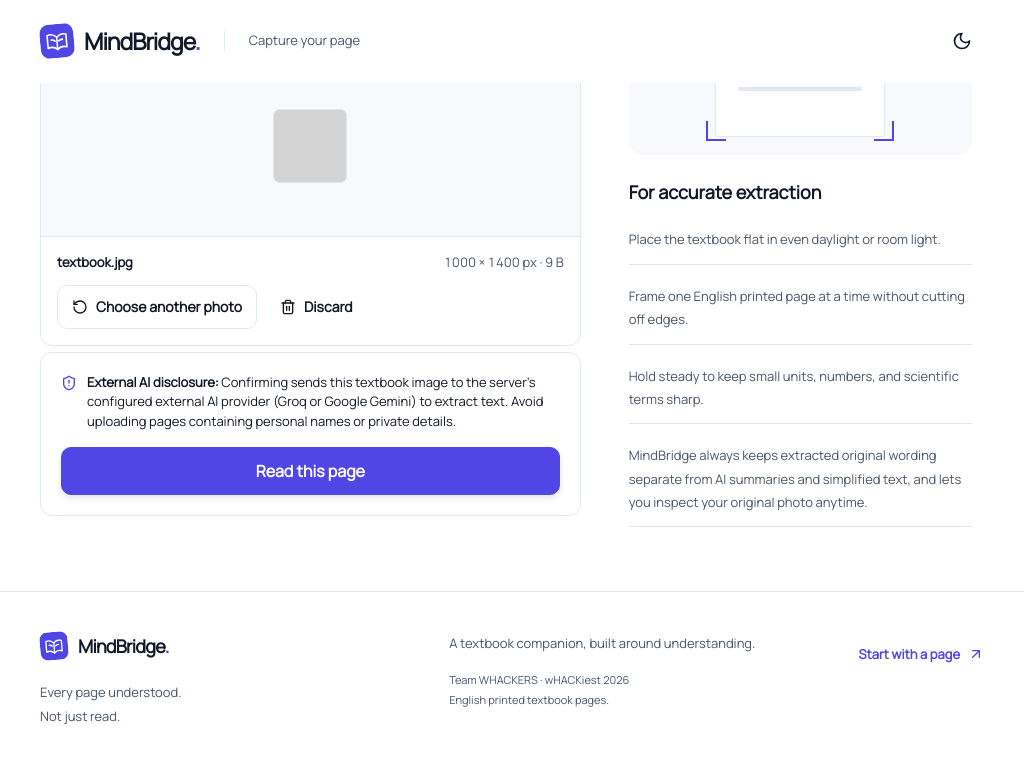
Test: Image validation & ScanPage flow › keeps user on ScanPage with retake guidance when OCR returns unreadable, and navigates on readable
Earlier steps of the test are not shown.
(page scrolled)
Expected: the text "Groq or Google Gemini" is shown, [87,373,543,430]
Click the button "Read this page": (310, 471) [61,447,560,495]
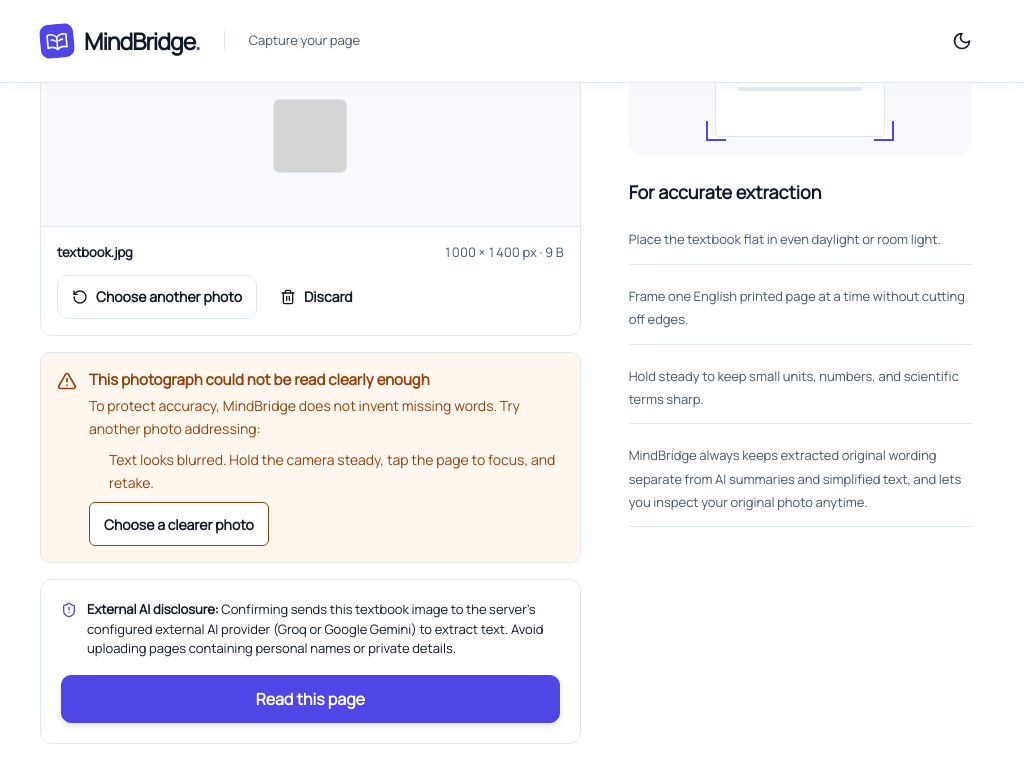
Expected: the text "This photograph could not be read clearly enough" is shown, [89,369,430,390]
Expected: the list item "Text looks blurred" is shown, [109,450,555,492]
Click the button "Read this page": (310, 699) [61,675,560,723]
(page scrolled)
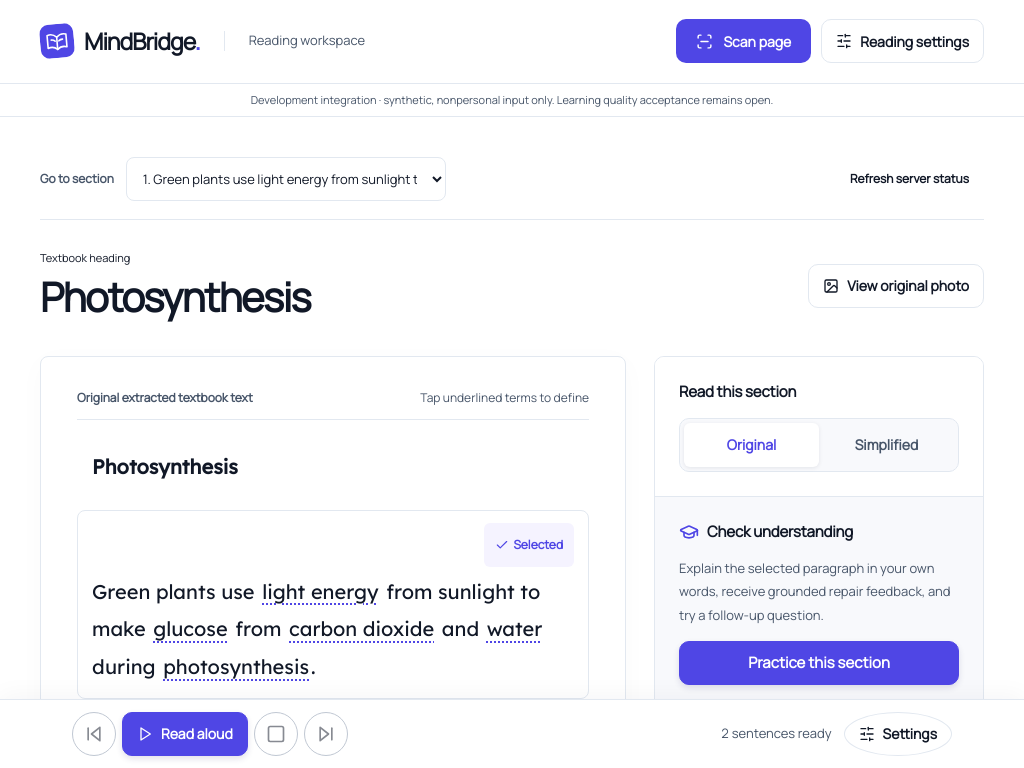
Expected: the heading "Photosynthesis" below "Textbook heading" is shown, [40,272,310,322]
